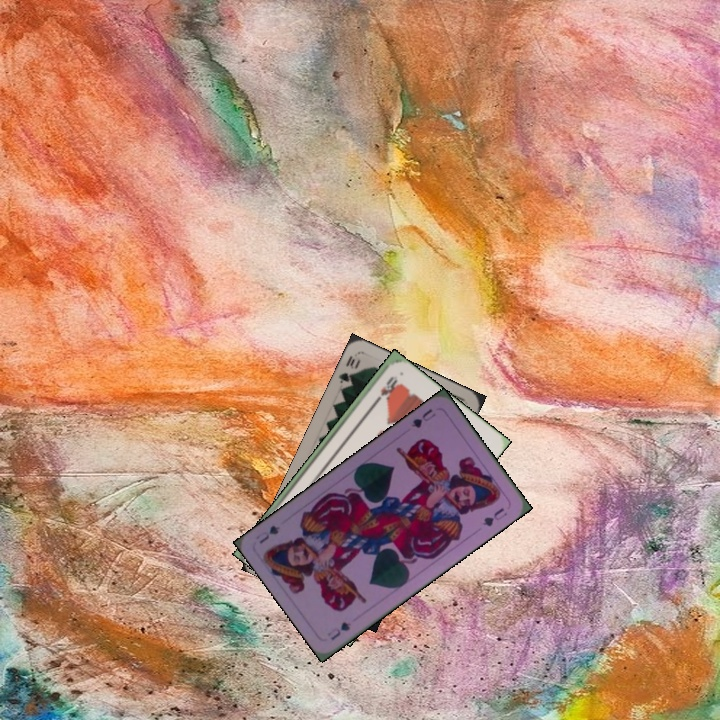G10: (335, 352, 363, 391)
GU: (407, 405, 438, 431), (323, 617, 354, 643)
HO: (371, 372, 399, 406)
